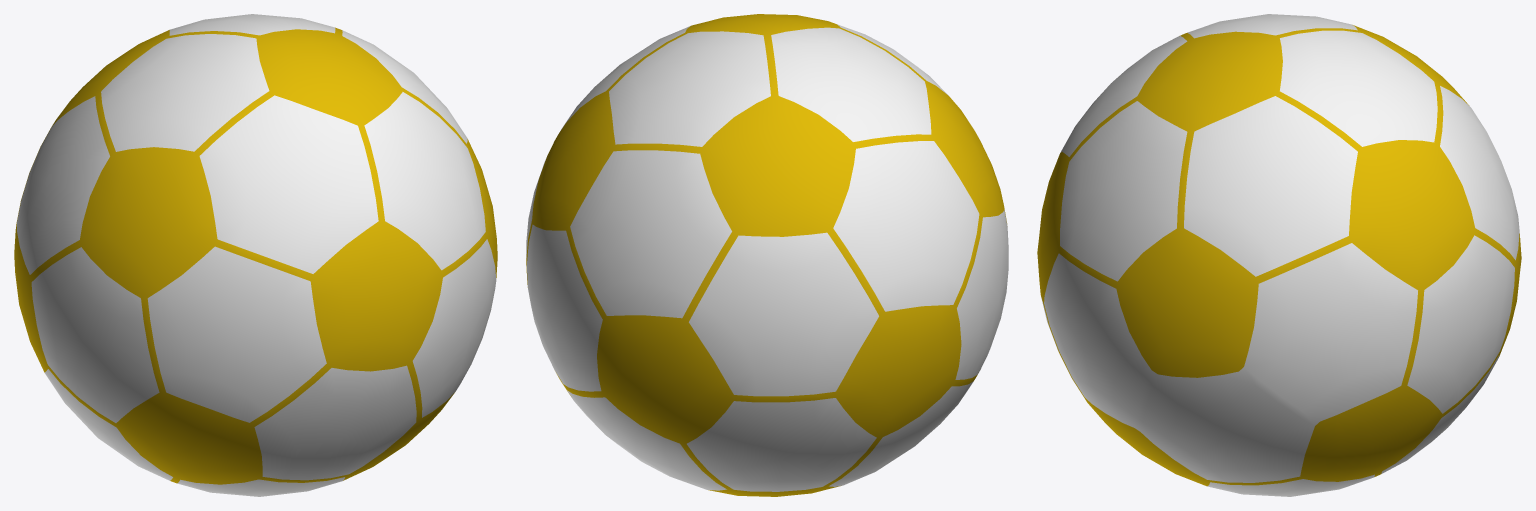
The model's file is Soccerball_Yellow.fbx.
3 renders of one model, left to right at view 1: azimuth 30°, elevation 25°; view 2: azimuth 150°, elevation 25°; view 3: azimuth 270°, elevation 25°, orthographic.
Parts seen in each view (by area): view 1: Soccerball_Yellow; view 2: Soccerball_Yellow; view 3: Soccerball_Yellow.
Boxes of the visible parts, x1,y1,x2,y2 form: Soccerball_Yellow: (14,14,497,496); Soccerball_Yellow: (526,14,1008,496); Soccerball_Yellow: (1037,14,1521,496).
Size of the model in its own units: 92.54 by 92.53 by 92.65.
